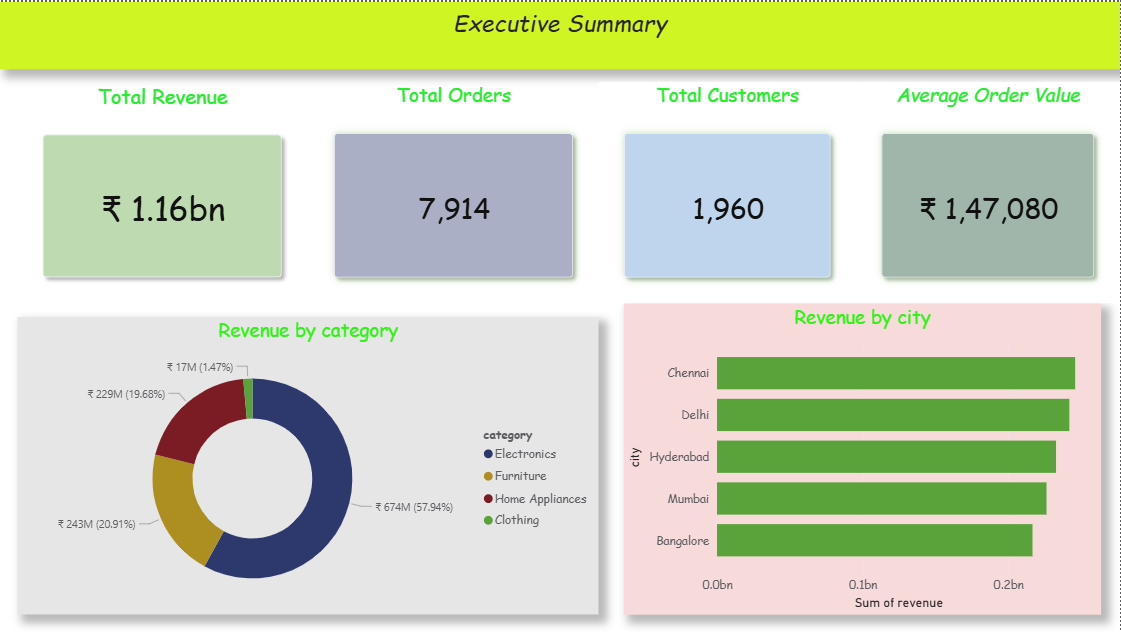

Layout of this report page (visuals, bound fields, positions):
{"tool":"powerbi","page":{"name":"Executive Summary","canvas":[1280,720],"ordinal":0},"visuals":[{"type":"cardVisual","title":"Total Revenue","fields":{"Data":["Sum(fact_sales.revenue)"]},"box":[20,91.4,331.4,252.9],"z":0},{"type":"cardVisual","title":"Total Orders","fields":{"Data":["Count(fact_sales.transaction_id)"]},"box":[352.9,91.4,331.4,252.9],"z":1000},{"type":"donutChart","title":"Revenue by category","fields":{"Category":["revenue_by_category.category"],"Y":["Sum(revenue_by_category.revenue)"]},"box":[20,360,664.3,340],"z":2000},{"type":"clusteredBarChart","title":"Revenue by city","fields":{"Category":["revenue_by_city.city"],"Y":["Sum(revenue_by_city.revenue)"]},"box":[712.9,344.3,545.7,355.7],"z":3000},{"type":"textbox","box":[0,0,1280,77.1],"z":4000},{"type":"cardVisual","title":"Total Customers","fields":{"Data":["Count(fact_sales.customer_id)"]},"box":[684.3,91.4,294.3,252.9],"z":5000},{"type":"cardVisual","title":"Average Order Value","fields":{"Data":["Gold.Average Order Value"]},"box":[978.6,91.4,301.4,252.9],"z":6000}]}

Visuals, with their boxes in screenshot pixels (x1, y1, x2, y2), scaled from the page's 1280x720 canvas onto the 1121x632 screenshot:
"Total Revenue" cardVisual: rect(18, 80, 308, 302)
"Total Orders" cardVisual: rect(309, 80, 599, 302)
"Revenue by category" donutChart: rect(18, 316, 599, 614)
"Revenue by city" clusteredBarChart: rect(624, 302, 1102, 614)
textbox: rect(0, 0, 1120, 68)
"Total Customers" cardVisual: rect(599, 80, 857, 302)
"Average Order Value" cardVisual: rect(857, 80, 1120, 302)
